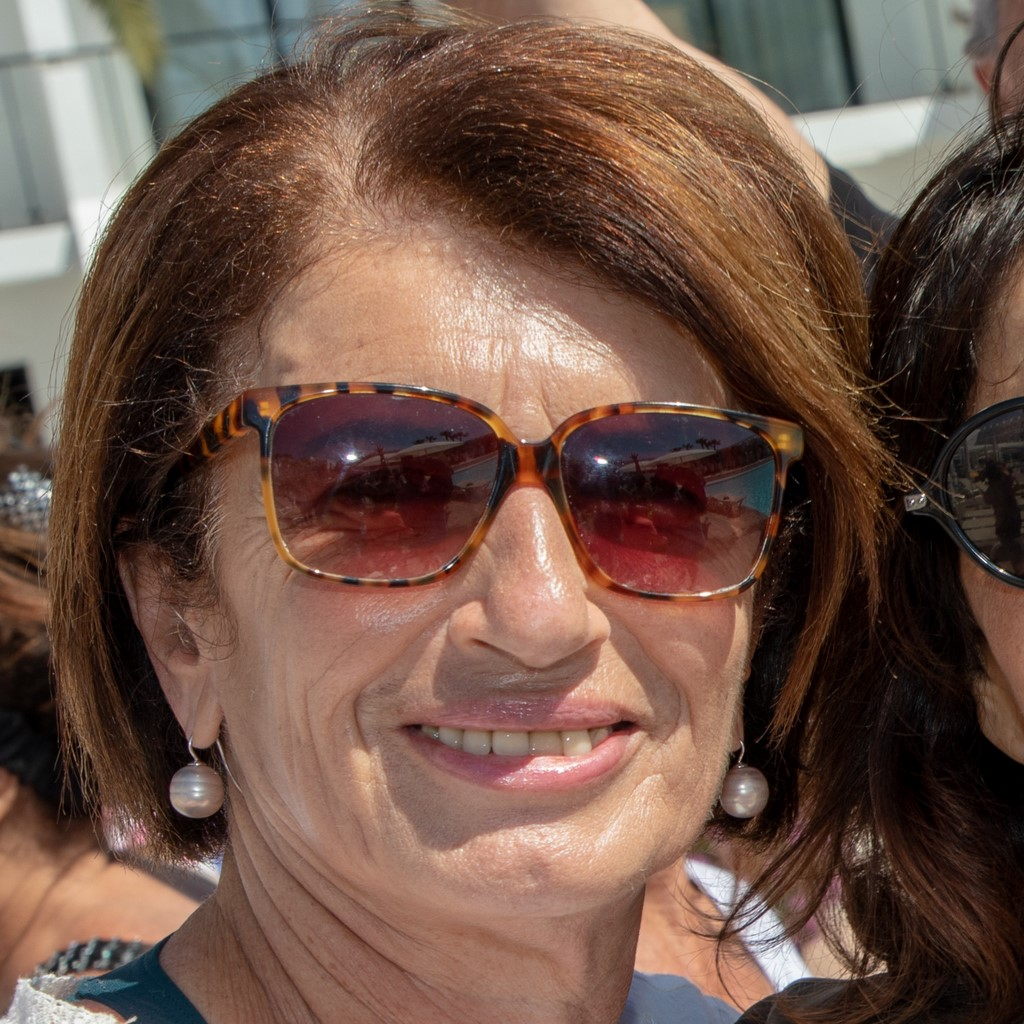sin_mascara: (164, 62, 795, 970)
